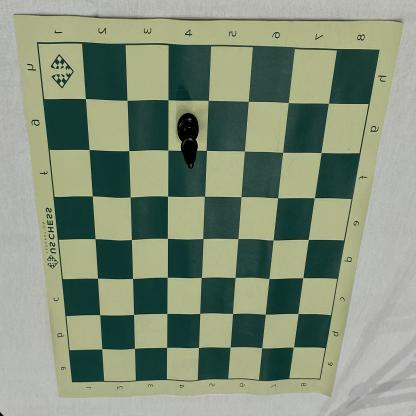black-bishop: (176, 113, 200, 168)
